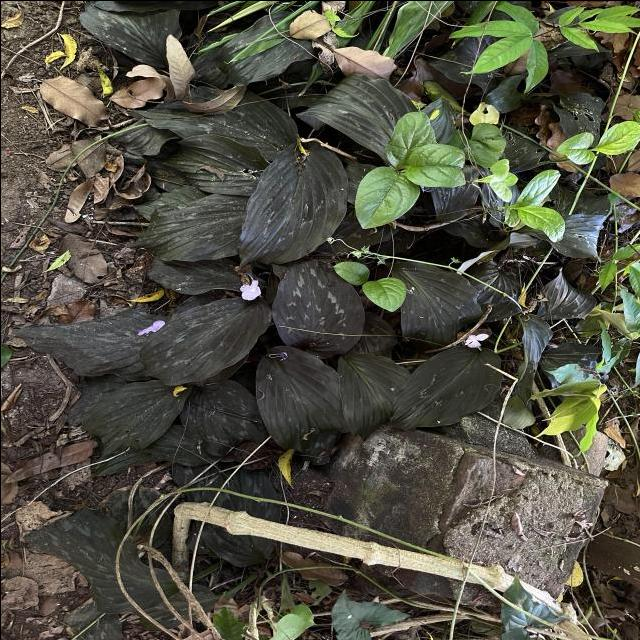Kaempferia galanga linn: (235, 138, 351, 272), (135, 294, 273, 386), (382, 344, 505, 434), (251, 342, 346, 456), (266, 252, 366, 360), (126, 191, 260, 263), (80, 378, 193, 462)
